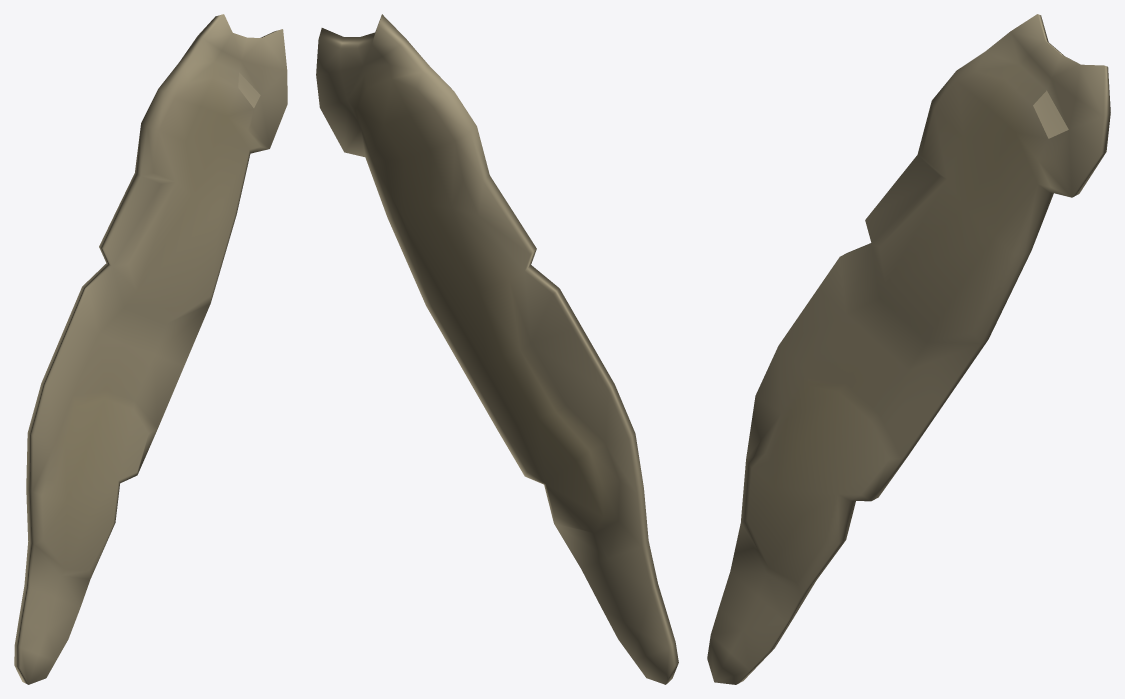
Rendered from microscopic-dust-particles-skin-flake_v1.glb.
The picture shows the model from 3 angles, left to right: view 1: azimuth 30°, elevation 25°; view 2: azimuth 150°, elevation 25°; view 3: azimuth 330°, elevation 25°; orthographic projection. The views are drawn at different scales.
Visible parts, largest first — view 1: Skin Flake_v1; view 2: Skin Flake_v1; view 3: Skin Flake_v1.
Boxes of the visible parts, left/top/right/bottom form: Skin Flake_v1: left=14, top=14, right=287, bottom=684; Skin Flake_v1: left=316, top=14, right=678, bottom=684; Skin Flake_v1: left=707, top=14, right=1110, bottom=684.
Bounding box in the file's own units: 0.2657 × 0.5 × 0.0691.
